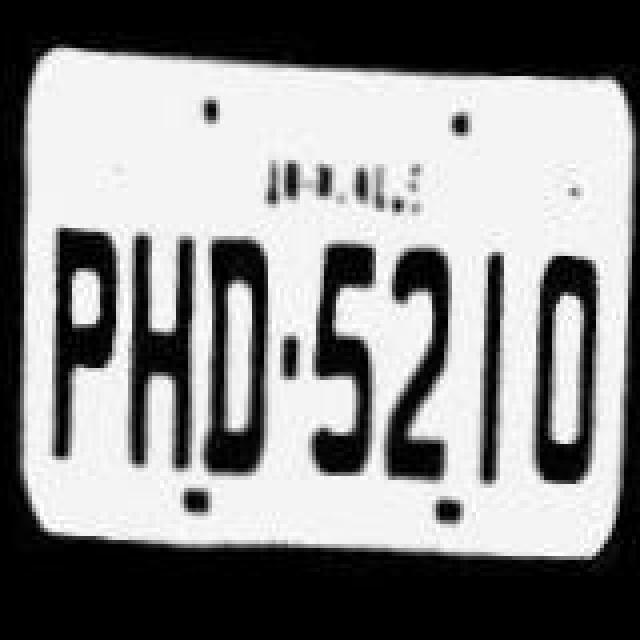1: (464, 250, 520, 486)
2: (374, 232, 458, 488)
5: (302, 238, 386, 478)
D: (192, 234, 280, 470)
H: (118, 226, 202, 466)
O: (518, 248, 610, 488)
P: (42, 226, 134, 454)
